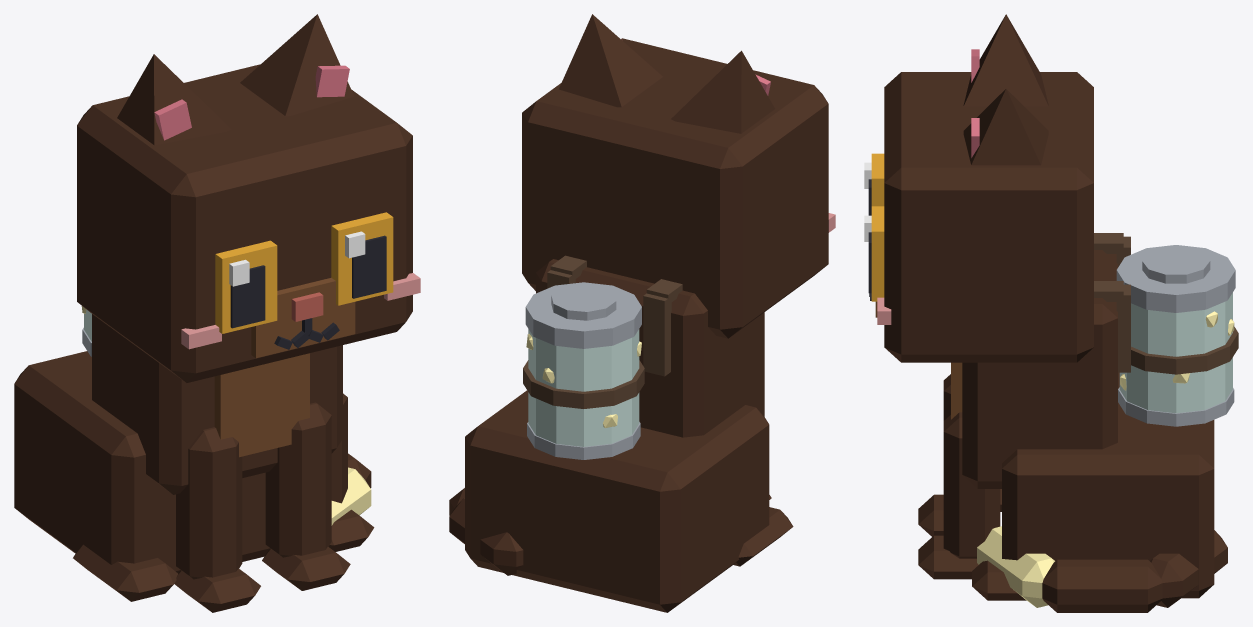
Rendered from CatCafe_Cat_Firefly_Sit.glb.
The picture shows the model from 3 angles, left to right: view 1: azimuth 30°, elevation 25°; view 2: azimuth 150°, elevation 25°; view 3: azimuth 270°, elevation 25°; orthographic projection. The views are drawn at different scales.
Parts seen in each view (by area): view 1: CatCafe_Cat_Firefly_Sit_Head, CatCafe_Cat_Firefly_Sit_Body, CatCafe_Cat_Firefly_Sit_LegF2, CatCafe_Cat_Firefly_Sit_LegF1, CatCafe_Cat_Firefly_Sit_EarL, CatCafe_Cat_Firefly_Sit_EarR, CatCafe_Cat_Firefly_Sit_Eye2, CatCafe_Cat_Firefly_Sit_Eye1, CatCafe_Cat_Firefly_Sit_Tail; view 2: CatCafe_Cat_Firefly_Sit_Head, CatCafe_Cat_Firefly_Sit_Body, CatCafe_Cat_Firefly_Sit_Prop, CatCafe_Cat_Firefly_Sit_Prop_Glass, CatCafe_Cat_Firefly_Sit_EarL, CatCafe_Cat_Firefly_Sit_EarR, CatCafe_Cat_Firefly_Sit_Tail; view 3: CatCafe_Cat_Firefly_Sit_Head, CatCafe_Cat_Firefly_Sit_Body, CatCafe_Cat_Firefly_Sit_Prop, CatCafe_Cat_Firefly_Sit_Tail, CatCafe_Cat_Firefly_Sit_Prop_Glass, CatCafe_Cat_Firefly_Sit_LegF1, CatCafe_Cat_Firefly_Sit_EarL, CatCafe_Cat_Firefly_Sit_EarR, CatCafe_Cat_Firefly_Sit_Eye1, CatCafe_Cat_Firefly_Sit_LegF2, CatCafe_Cat_Firefly_Sit_Eye2.
Part boxes in pixels (<box>): CatCafe_Cat_Firefly_Sit_Head: <box>77,64,420,382</box>; CatCafe_Cat_Firefly_Sit_Body: <box>14,314,374,601</box>; CatCafe_Cat_Firefly_Sit_LegF2: <box>174,427,260,612</box>; CatCafe_Cat_Firefly_Sit_LegF1: <box>262,402,350,590</box>; CatCafe_Cat_Firefly_Sit_EarL: <box>240,14,354,116</box>; CatCafe_Cat_Firefly_Sit_EarR: <box>117,54,231,145</box>; CatCafe_Cat_Firefly_Sit_Eye2: <box>215,240,277,333</box>; CatCafe_Cat_Firefly_Sit_Eye1: <box>331,212,393,305</box>; CatCafe_Cat_Firefly_Sit_Tail: <box>331,453,371,525</box>; CatCafe_Cat_Firefly_Sit_Head: <box>522,38,835,338</box>; CatCafe_Cat_Firefly_Sit_Body: <box>465,259,793,612</box>; CatCafe_Cat_Firefly_Sit_Prop: <box>523,255,682,459</box>; CatCafe_Cat_Firefly_Sit_Prop_Glass: <box>528,329,639,446</box>; CatCafe_Cat_Firefly_Sit_EarL: <box>559,14,662,107</box>; CatCafe_Cat_Firefly_Sit_EarR: <box>671,50,774,133</box>; CatCafe_Cat_Firefly_Sit_Tail: <box>449,488,523,575</box>; CatCafe_Cat_Firefly_Sit_Head: <box>869,72,1093,362</box>; CatCafe_Cat_Firefly_Sit_Body: <box>951,250,1214,600</box>; CatCafe_Cat_Firefly_Sit_Prop: <box>1094,233,1238,426</box>; CatCafe_Cat_Firefly_Sit_Tail: <box>977,526,1227,612</box>; CatCafe_Cat_Firefly_Sit_Prop_Glass: <box>1119,292,1232,413</box>; CatCafe_Cat_Firefly_Sit_LegF1: <box>918,412,1000,579</box>; CatCafe_Cat_Firefly_Sit_EarL: <box>963,89,1048,165</box>; CatCafe_Cat_Firefly_Sit_EarR: <box>963,14,1048,106</box>; CatCafe_Cat_Firefly_Sit_Eye1: <box>864,206,884,301</box>; CatCafe_Cat_Firefly_Sit_LegF2: <box>918,374,950,536</box>; CatCafe_Cat_Firefly_Sit_Eye2: <box>864,153,884,215</box>.
Bounding box in the file's own units: 1.05 × 1.85 × 1.25.
1 material, 1 textured.
